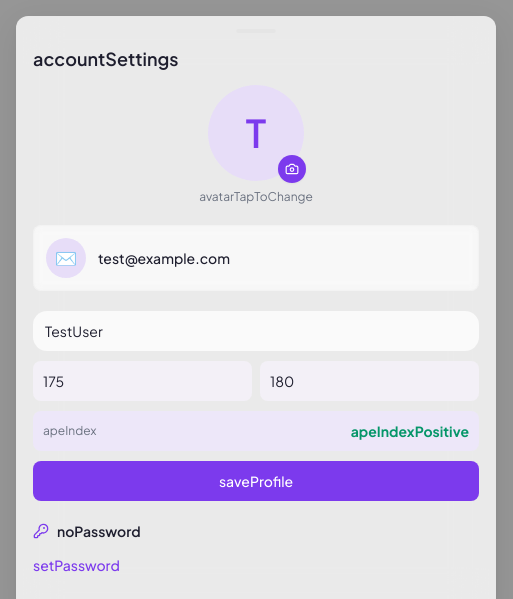
Test: SecurityDrawer › password management › collapses form and clears fields after cancel
This screenshot has width=513, height=599.
Click the button "setPassword" at coordinates (76, 565), box [33,555,120,575]
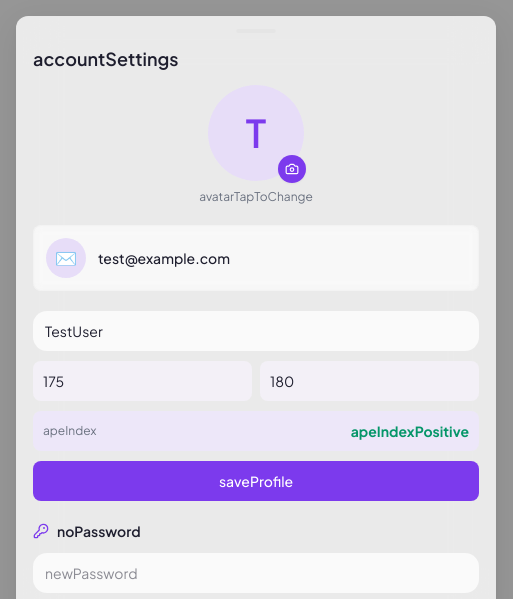
Type something
Type "test" into the password field with placeholder "newPassword" at coordinates (256, 573), box [33,553,479,593]
(page scrolled)
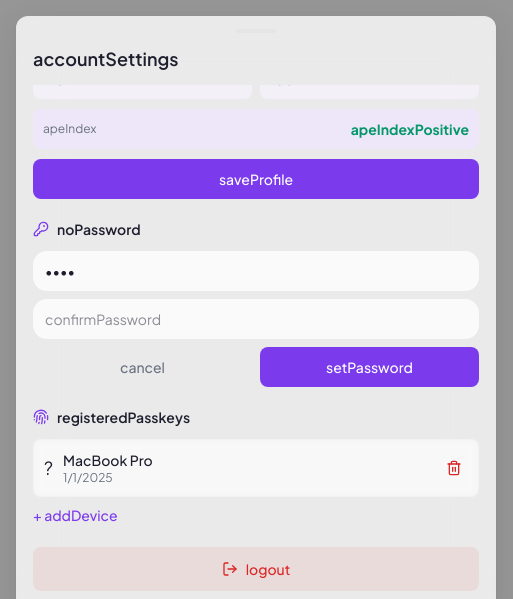
Click the button "cancel" at coordinates (142, 367), box [33,347,252,387]
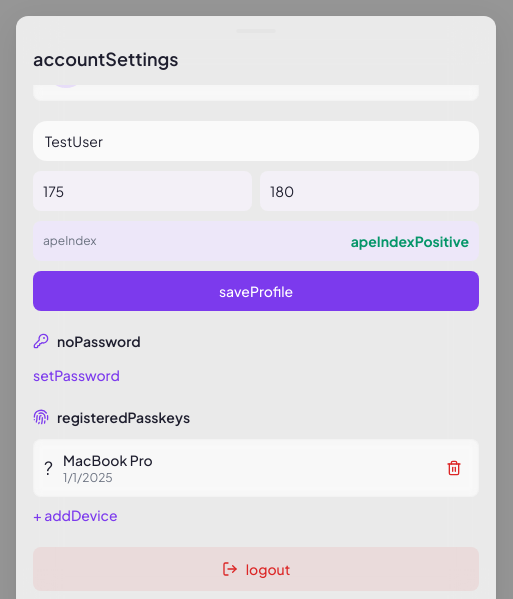
Now the password field with placeholder "newPassword" is gone
